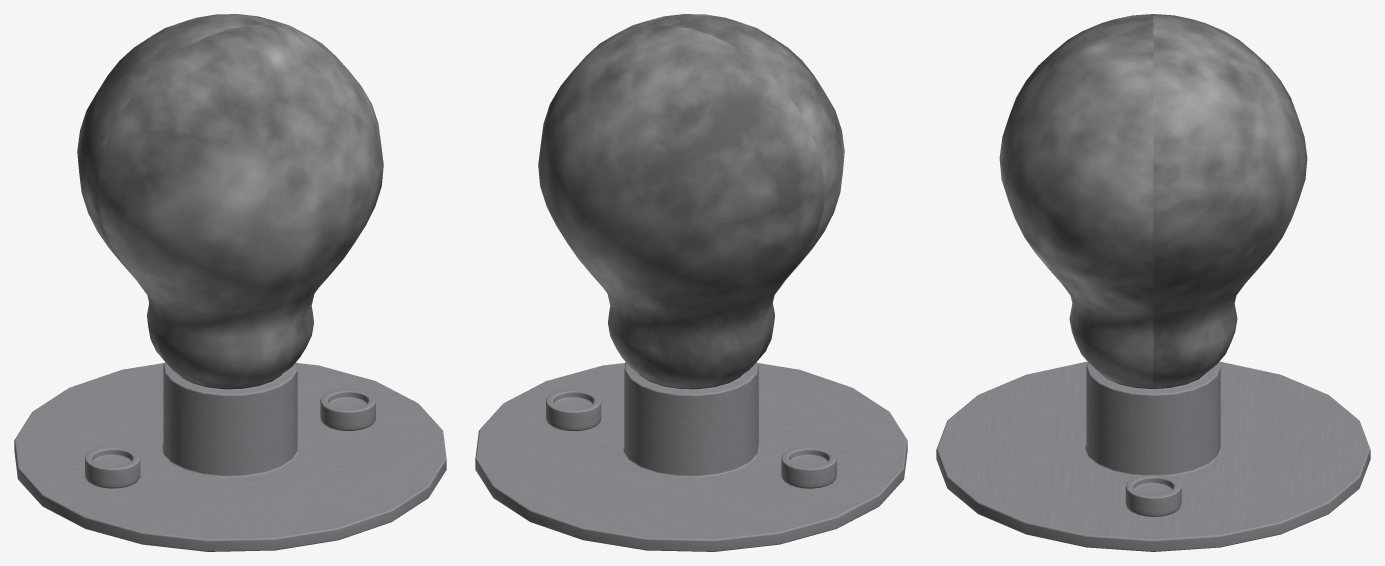
Rendered from Bulb.fbx.
The picture shows the model from 3 angles, left to right: view 1: azimuth 30°, elevation 25°; view 2: azimuth 150°, elevation 25°; view 3: azimuth 270°, elevation 25°; orthographic projection.
Visible parts, largest first — view 1: Glass_bulb, Cap, Screw1, Screw; view 2: Glass_bulb, Cap, Screw1, Screw; view 3: Glass_bulb, Cap, Screw.
Boxes of the visible parts, x1,y1,x2,y2 form: Glass_bulb: (77, 14, 383, 389); Cap: (14, 362, 446, 551); Screw1: (85, 446, 140, 488); Screw: (320, 389, 375, 430); Glass_bulb: (538, 14, 844, 389); Cap: (475, 362, 907, 551); Screw1: (781, 446, 836, 488); Screw: (546, 389, 601, 431); Glass_bulb: (999, 14, 1307, 388); Cap: (936, 361, 1370, 551); Screw: (1125, 474, 1181, 516).
Size of the model in its own units: 5.14 by 5.64 by 5.14.
Materials: 1 (1 with a texture image).
